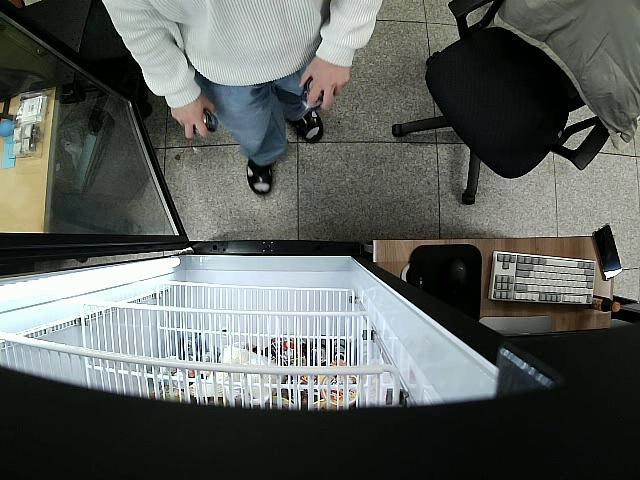14_welchsGrape: (300, 77, 324, 112), (197, 107, 220, 136)
